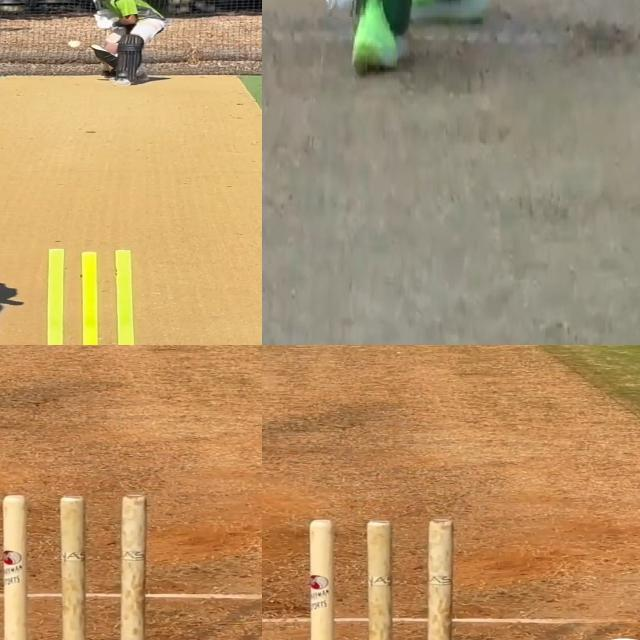Cricket ball: (326, 0, 357, 17), (66, 37, 85, 49)
Stumps: (0, 493, 151, 640), (308, 518, 460, 640)
